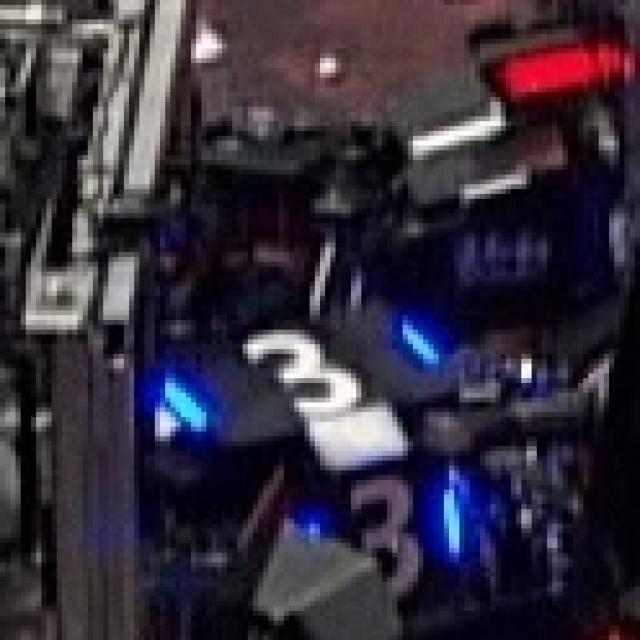B3: (170, 310, 434, 427), (289, 456, 465, 601)
